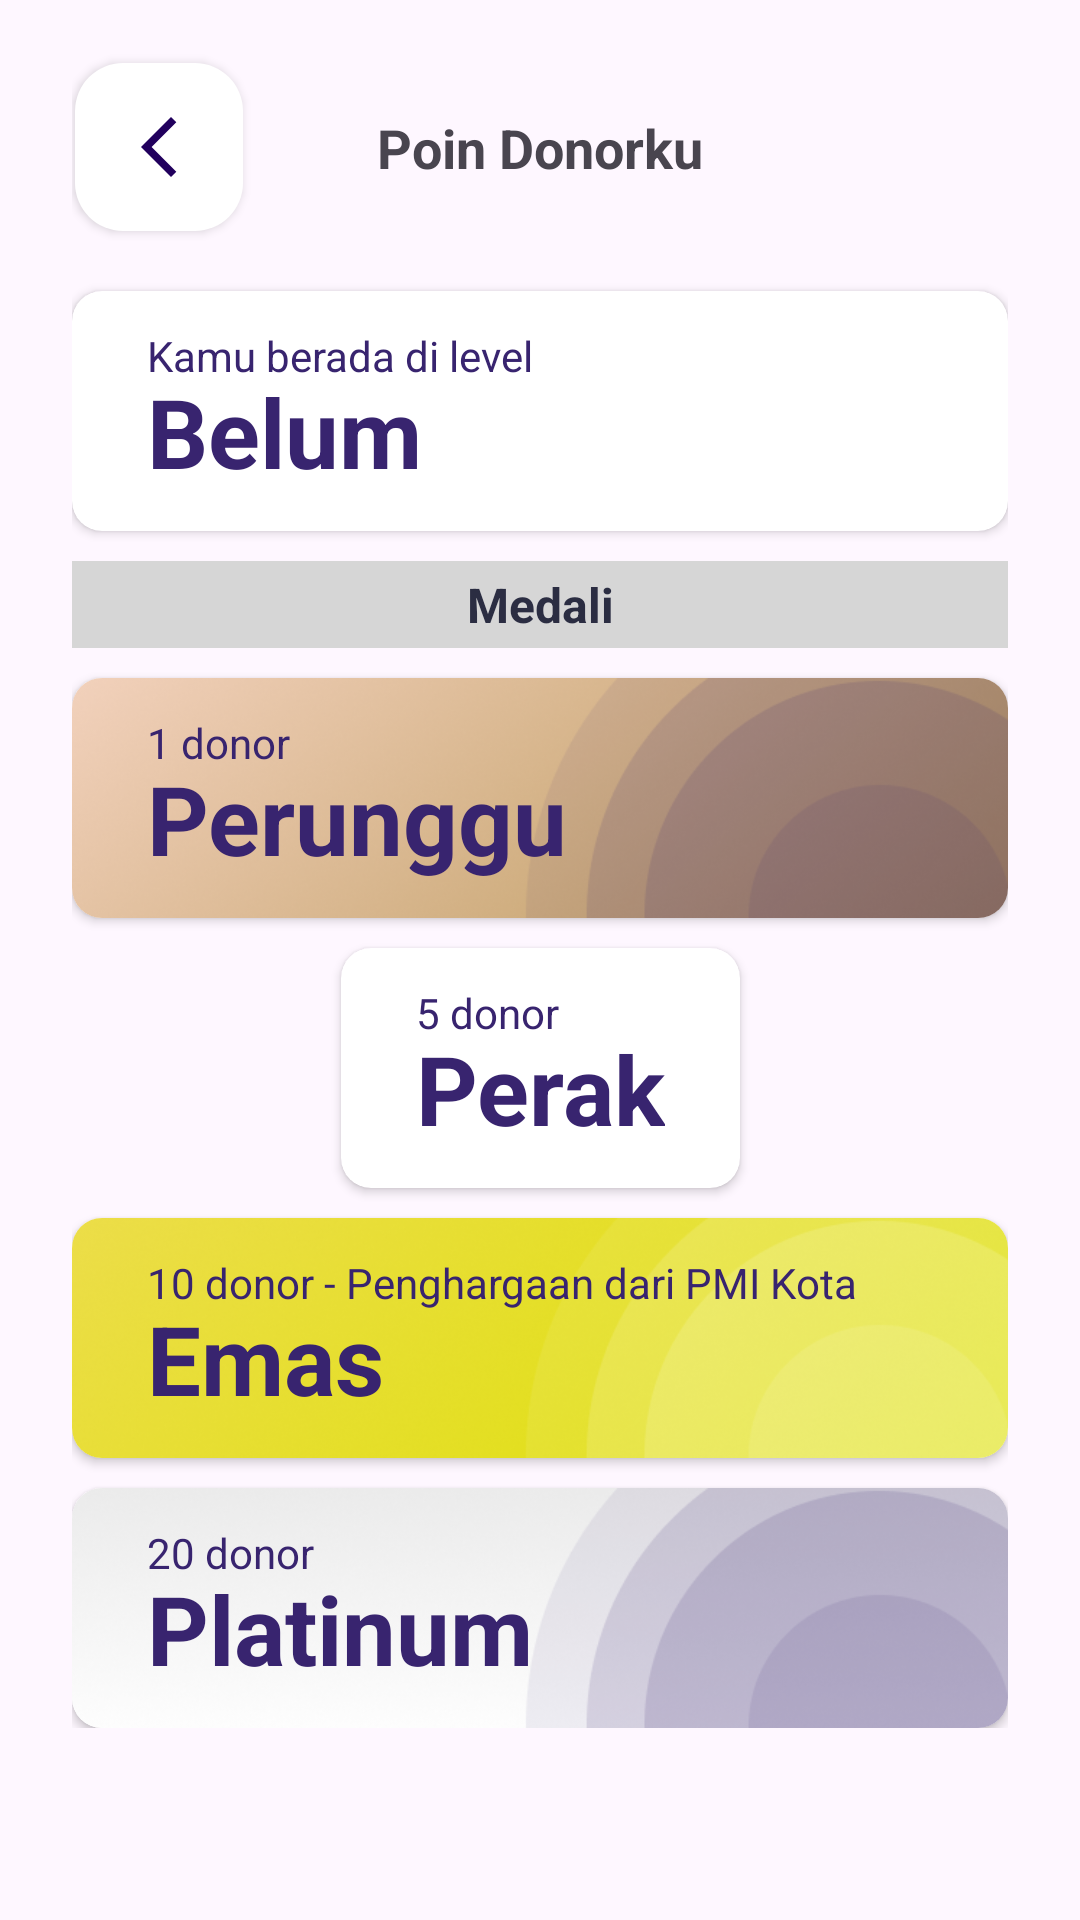

Named icons in this screenshot (1080 × 1920) and their bounding boxes, (x1, y1, x2, y2):
back: (75, 63, 221, 231)
